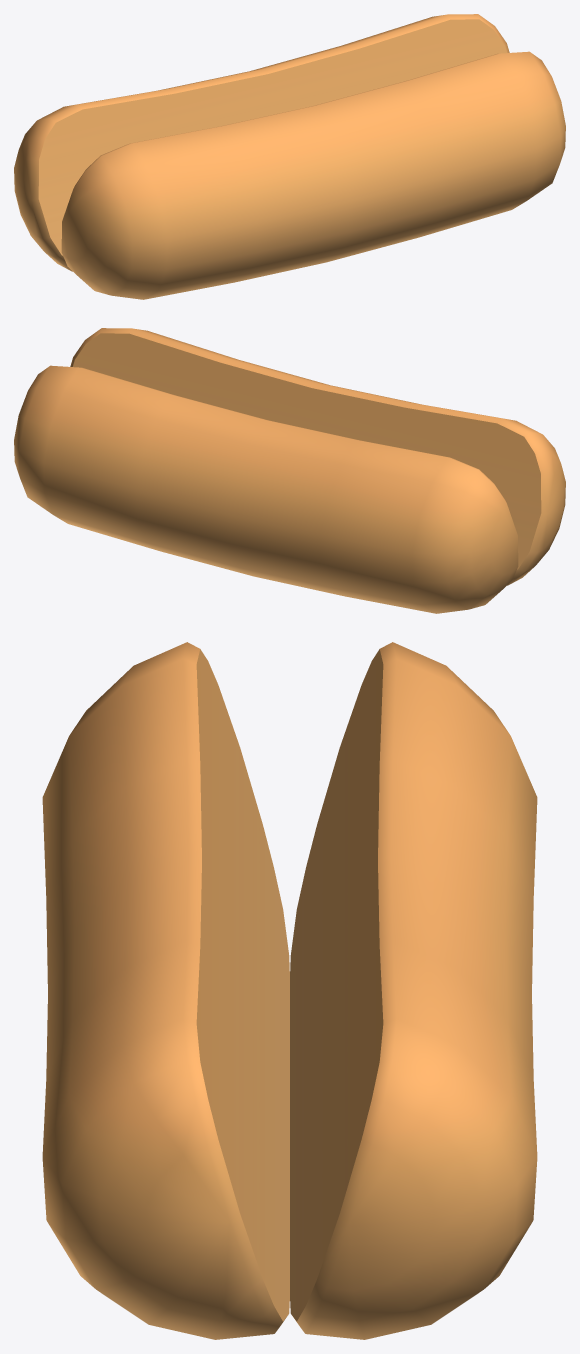
The model's file is HotDog_bun.001.fbx.
3 views of the same model, one above another, from view 1: azimuth 30°, elevation 25°; view 2: azimuth 150°, elevation 25°; view 3: azimuth 270°, elevation 25° (orthographic). The views are drawn at different scales.
Parts seen in each view (by area): view 1: HotDog_bun.001; view 2: HotDog_bun.001; view 3: HotDog_bun.001.
Boxes of the visible parts, x1,y1,x2,y2 form: HotDog_bun.001: (14, 14, 565, 299); HotDog_bun.001: (14, 328, 565, 613); HotDog_bun.001: (42, 642, 537, 1339).
Bounding box in the file's own units: 153 × 67.45 × 49.74.
